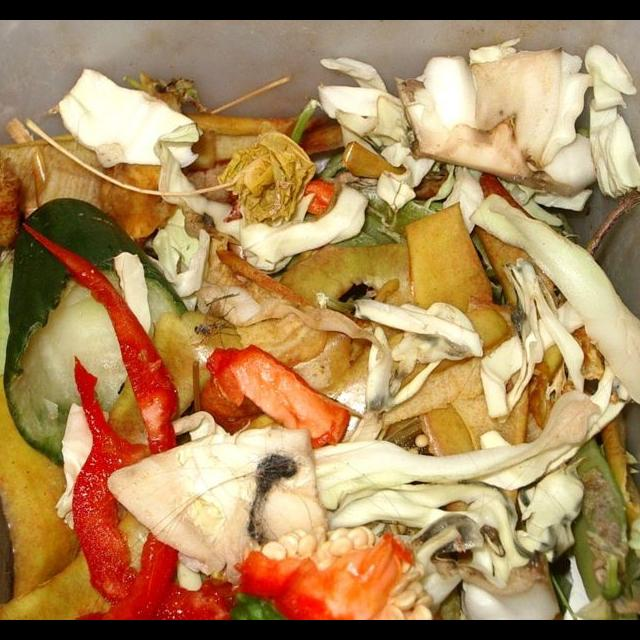food_waste: (0, 393, 218, 620), (398, 33, 640, 194), (299, 416, 622, 530), (0, 211, 176, 420), (482, 210, 640, 431), (123, 429, 328, 558), (218, 128, 381, 275), (189, 324, 360, 438), (39, 70, 214, 161), (577, 49, 640, 218), (355, 296, 491, 370)
